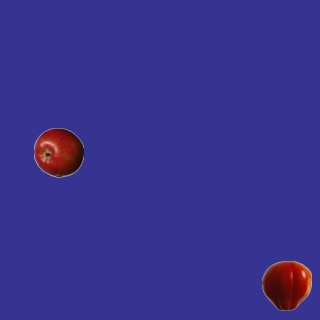Apple Braeburn: (33, 127, 83, 177)
Tomato 1: (261, 260, 311, 310)
